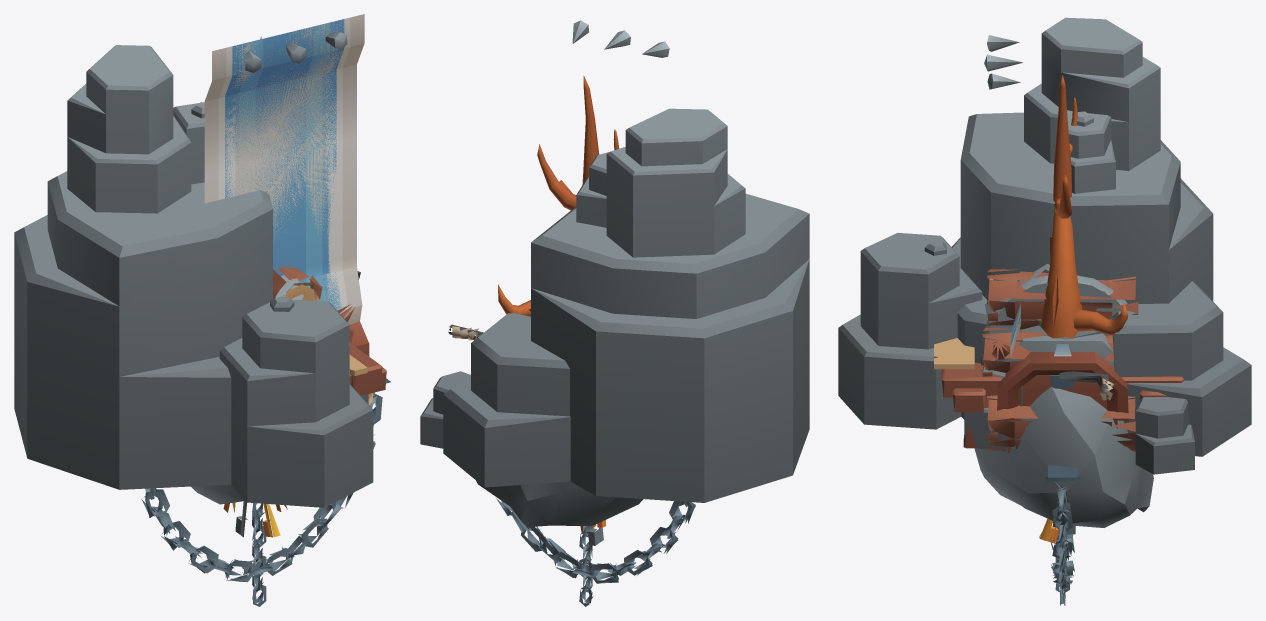
File: env.glb
3 renders of one model, left to right at view 1: azimuth 30°, elevation 25°; view 2: azimuth 150°, elevation 25°; view 3: azimuth 270°, elevation 25°, orthographic. The views are drawn at different scales.
Visible parts, largest first — view 1: Rock_1_J_Color1, banner_white, banner_thin_blue, chain_hanging_B, grindstone, Wood_Log_Stack, chain, keyring_hanging, Rock_3_J_Color1; view 2: Rock_1_J_Color1, Rock_3_J_Color1, chain_hanging_B, Tree_Bare_2_A_Color1, chain, banner_white; view 3: Rock_1_J_Color1, Rock_3_J_Color1, Wood_Log_Stack, trunk_large_A, Tree_Bare_1_A_Color1, grindstone, grindstone_wheel, chain_hanging_B, Tree_Bare_2_A_Color1, banner_white.
Boxes of the visible parts, x1=… form: Rock_1_J_Color1: x1=14, y1=45, x2=373, y2=507; banner_white: x1=204, y1=14, x2=364, y2=324; banner_thin_blue: x1=225, y1=19, x2=344, y2=310; chain_hanging_B: x1=141, y1=378, x2=390, y2=582; grindstone: x1=349, y1=343, x2=386, y2=395; Wood_Log_Stack: x1=273, y1=264, x2=373, y2=404; chain: x1=252, y1=503, x2=266, y2=606; keyring_hanging: x1=223, y1=501, x2=287, y2=537; Rock_3_J_Color1: x1=191, y1=484, x2=245, y2=504; Rock_1_J_Color1: x1=420, y1=108, x2=809, y2=502; Rock_3_J_Color1: x1=476, y1=480, x2=643, y2=527; chain_hanging_B: x1=496, y1=498, x2=695, y2=583; Tree_Bare_2_A_Color1: x1=537, y1=75, x2=619, y2=210; chain: x1=579, y1=526, x2=593, y2=606; banner_white: x1=572, y1=20, x2=669, y2=57; Rock_1_J_Color1: x1=838, y1=17, x2=1251, y2=474; Rock_3_J_Color1: x1=974, y1=386, x2=1153, y2=527; Wood_Log_Stack: x1=981, y1=269, x2=1138, y2=451; trunk_large_A: x1=994, y1=333, x2=1128, y2=453; Tree_Bare_1_A_Color1: x1=1040, y1=197, x2=1127, y2=338; grindstone: x1=934, y1=338, x2=1183, y2=448; grindstone_wheel: x1=980, y1=264, x2=1127, y2=400; chain_hanging_B: x1=1045, y1=465, x2=1080, y2=590; Tree_Bare_2_A_Color1: x1=1050, y1=75, x2=1077, y2=259; banner_white: x1=987, y1=35, x2=1020, y2=357.
Bounding box in the file's own units: 3.46 × 5.6 × 3.76.
Materials: 5 (5 with a texture image).
